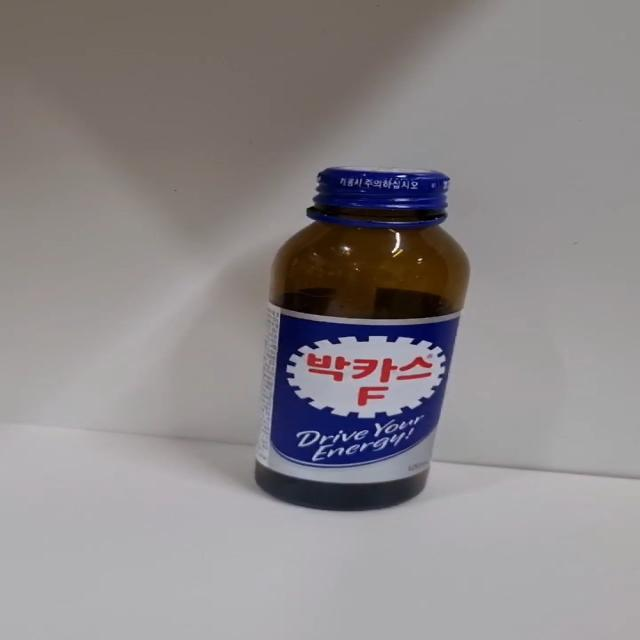Glass: (253, 168, 471, 514)
